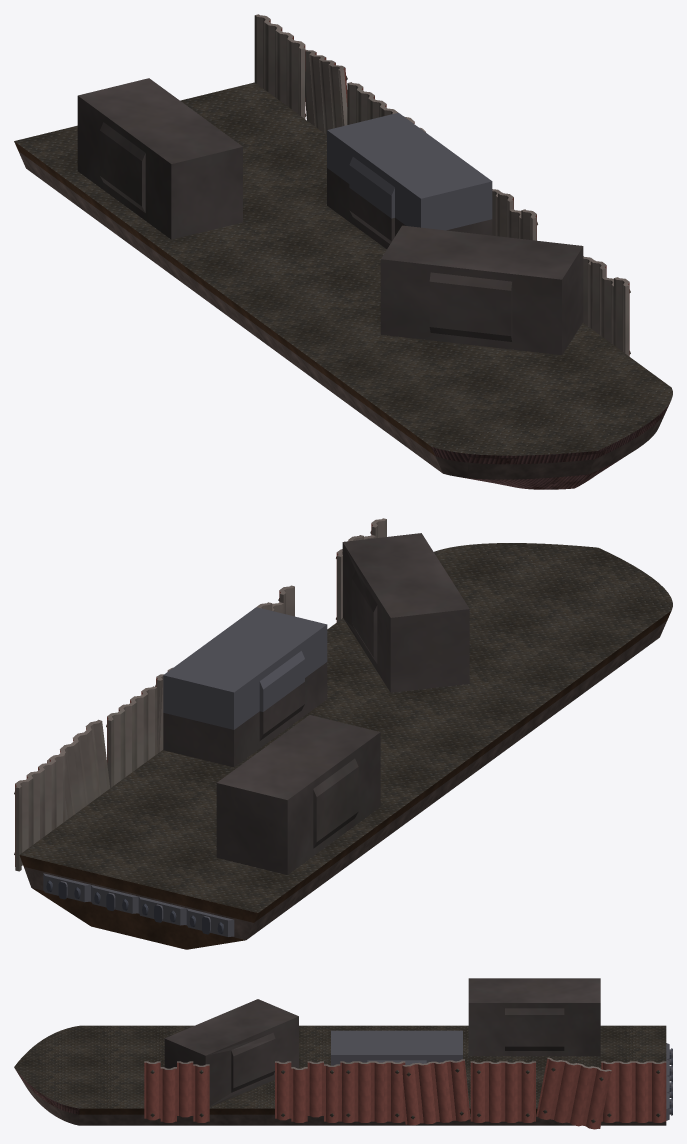
Rendered from Neriglissar_WW_sección_estribor.glb.
3 renders of one model, top to bottom at view 1: azimuth 30°, elevation 25°; view 2: azimuth 150°, elevation 25°; view 3: azimuth 270°, elevation 25°, orthographic. The views are drawn at different scales.
Parts seen in each view (by area): view 1: mergedBlocks(Clone); view 2: mergedBlocks(Clone); view 3: mergedBlocks(Clone).
Boxes of the visible parts, x1,y1,x2,y2 form: mergedBlocks(Clone): [14, 14, 672, 489]; mergedBlocks(Clone): [14, 518, 672, 949]; mergedBlocks(Clone): [14, 978, 672, 1129].
Size of the model in its own units: 6.42 by 3.1 by 20.2.
9 materials, 7 textured.
